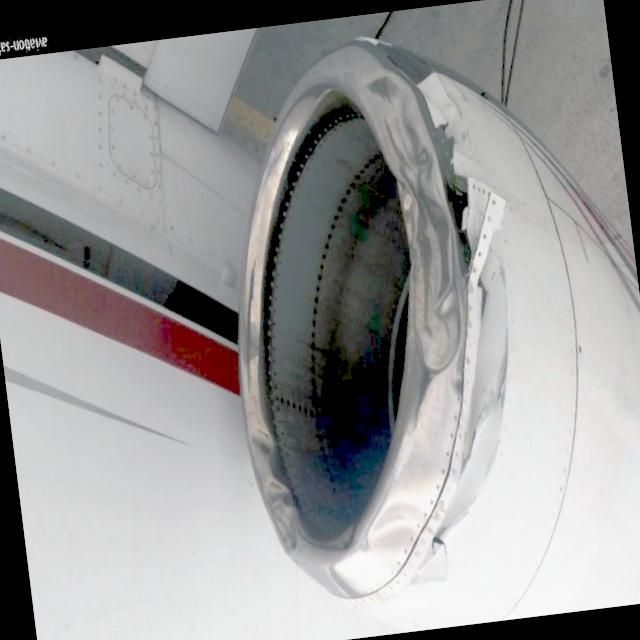dent: (363, 74, 468, 374), (384, 374, 474, 487), (362, 504, 428, 554), (264, 476, 301, 554), (247, 423, 276, 458)
